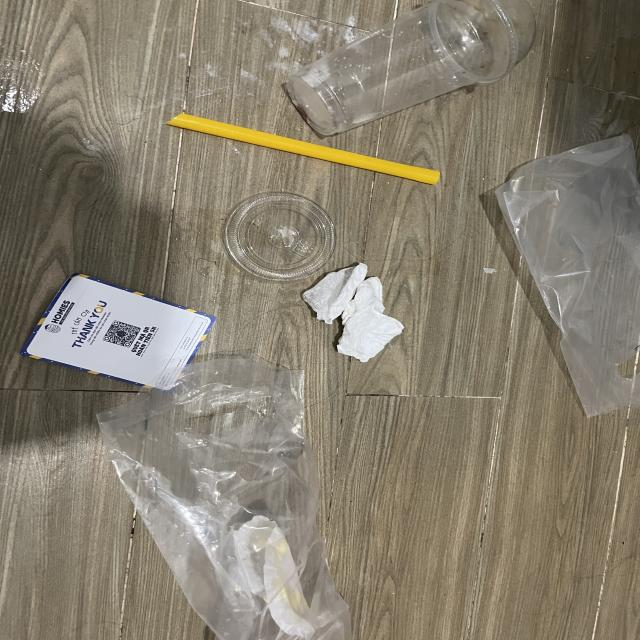bag: (492, 133, 640, 418)
drinking straw: (166, 112, 440, 184)
lid: (225, 191, 338, 281)
napkin: (302, 261, 406, 363)
paper: (20, 273, 217, 392)
plastic glass: (282, 0, 537, 136)
trash bag: (97, 353, 351, 640)
